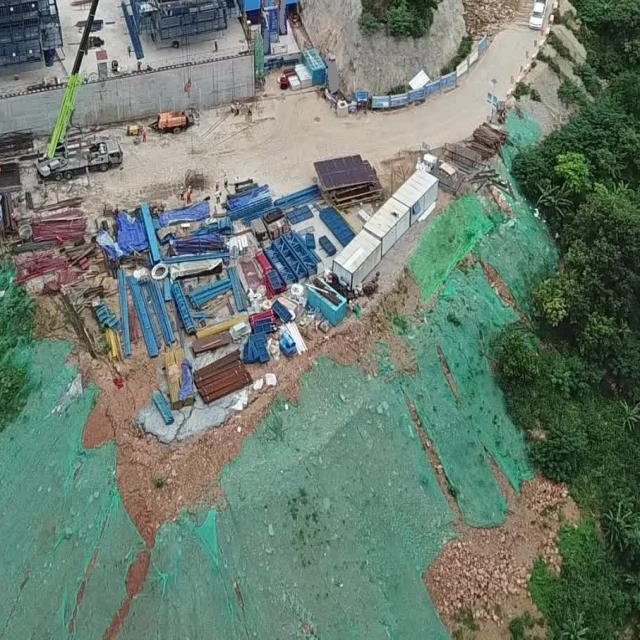crane: (36, 0, 121, 181)
